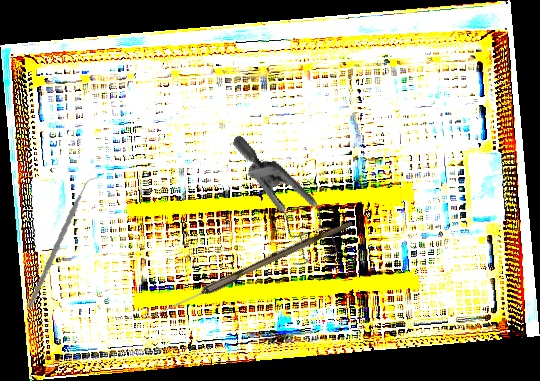Chopper: (13, 176, 115, 308)
Speculum: (198, 134, 365, 279)
Surgical Spoon: (149, 216, 354, 322)
